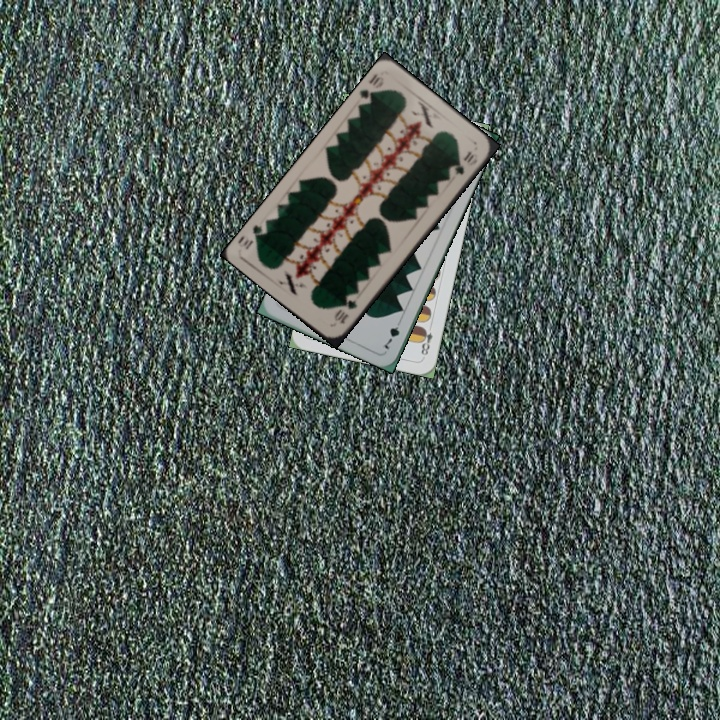E8: (416, 324, 435, 360)
G10: (356, 69, 387, 107), (330, 295, 360, 327)
G7: (380, 314, 405, 352)
